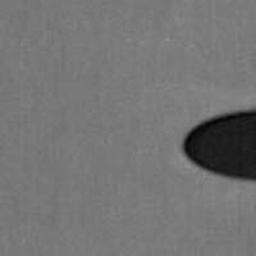Punching: (182, 111, 256, 180)
